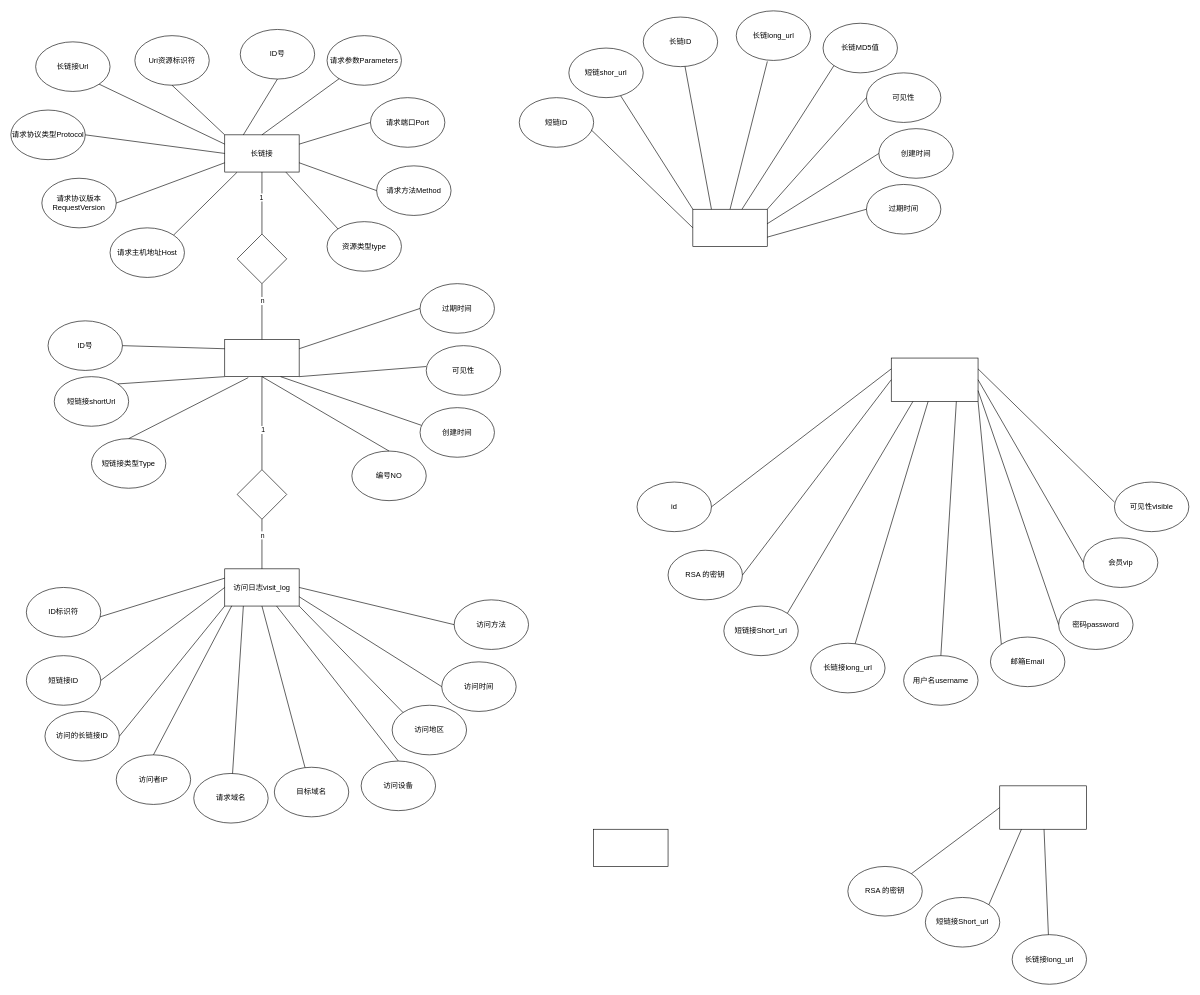
This 1200x995 diagram has some shape labels left out. The centre of each missing label's shape, as x and y in pixels:
URL映射关系url_map: the point at 729,227
前端用户app_user: the point at 934,379
匿名用户anonymous_user: the point at 1043,807
生产: the point at 262,258
短链接: the point at 261,358
短链接二维码映射关系: the point at 630,847
访问: the point at 262,494
